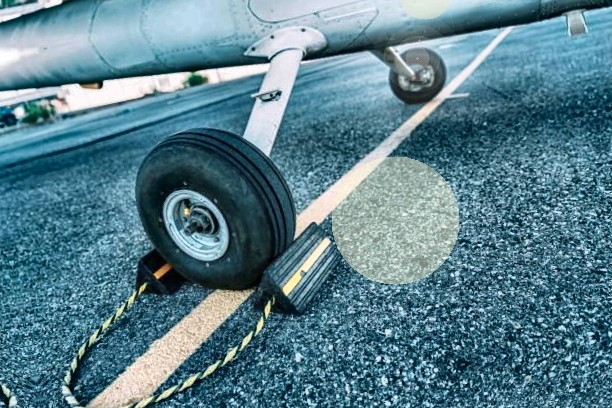chock: (237, 215, 355, 324), (126, 236, 203, 302)
wheel: (122, 111, 311, 308), (384, 40, 454, 109)
